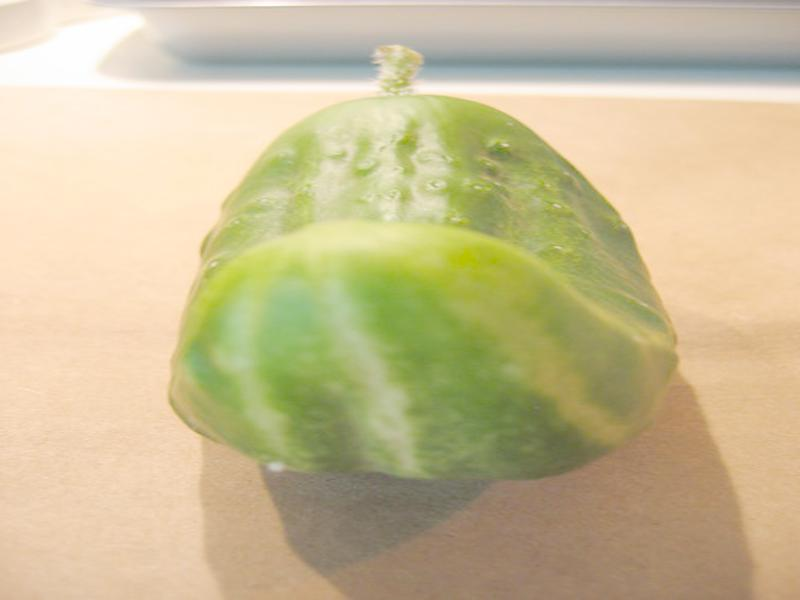Cucumber: (163, 43, 673, 482)
